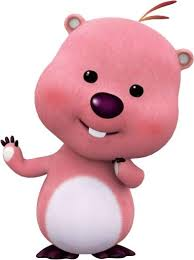Loopy: (1, 1, 194, 258)
